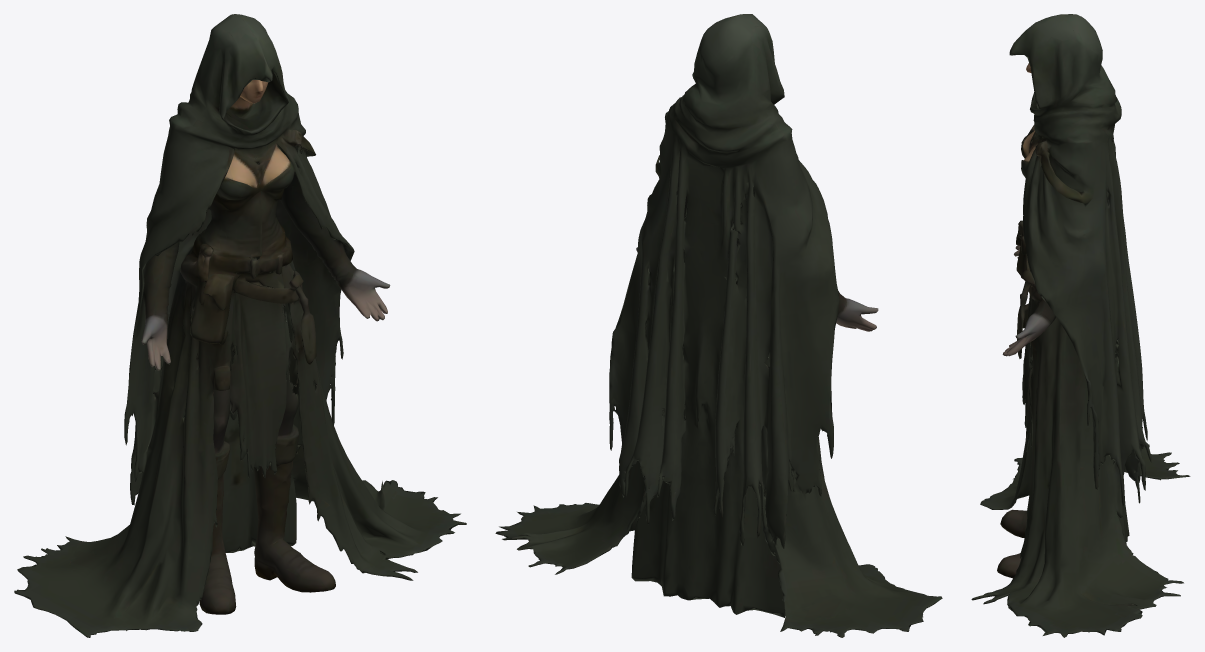
File: witch.glb
3 renders of one model, left to right at view 1: azimuth 30°, elevation 25°; view 2: azimuth 150°, elevation 25°; view 3: azimuth 270°, elevation 25°, orthographic. The views are drawn at different scales.
Parts seen in each view (by area): view 1: world; view 2: world; view 3: world.
Boxes of the visible parts, x1=… form: world: x1=14, y1=14, x2=466, y2=637; world: x1=495, y1=14, x2=942, y2=637; world: x1=971, y1=14, x2=1190, y2=637.
Bounding box in the file's own units: 0.7764 × 0.9996 × 0.3705.
1 material, 1 textured.
